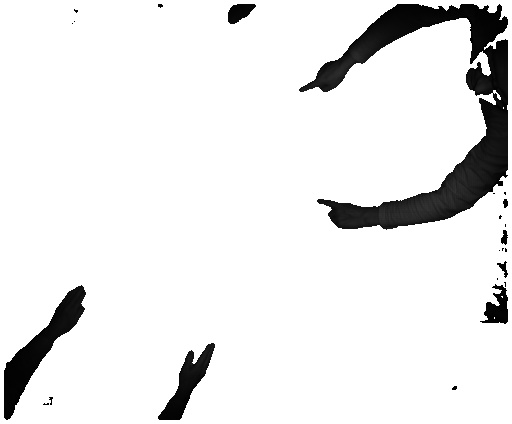hand: (312, 192, 372, 231), (49, 280, 87, 341), (296, 56, 350, 95), (177, 336, 215, 391)
